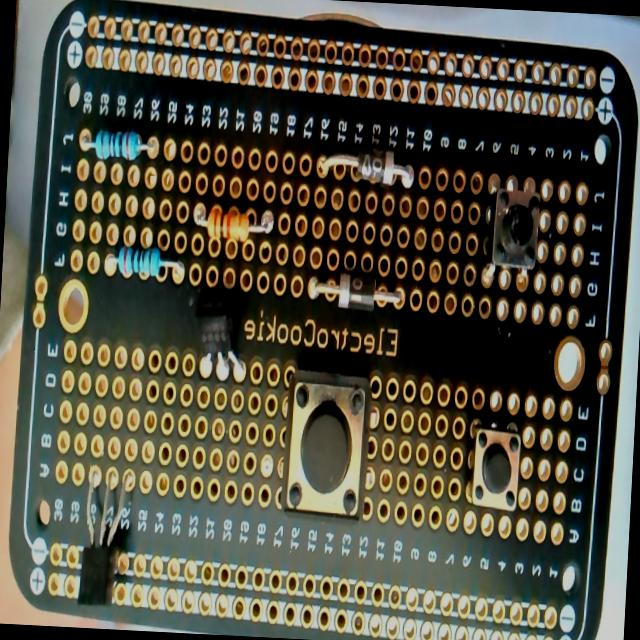diode: (318, 146, 420, 192), (309, 270, 403, 314)
resistor: (192, 204, 273, 246), (106, 244, 187, 286), (80, 127, 156, 163)
switch: (283, 370, 370, 520), (488, 183, 542, 273), (467, 420, 521, 510)
transistor: (76, 464, 132, 612), (189, 276, 250, 384)
